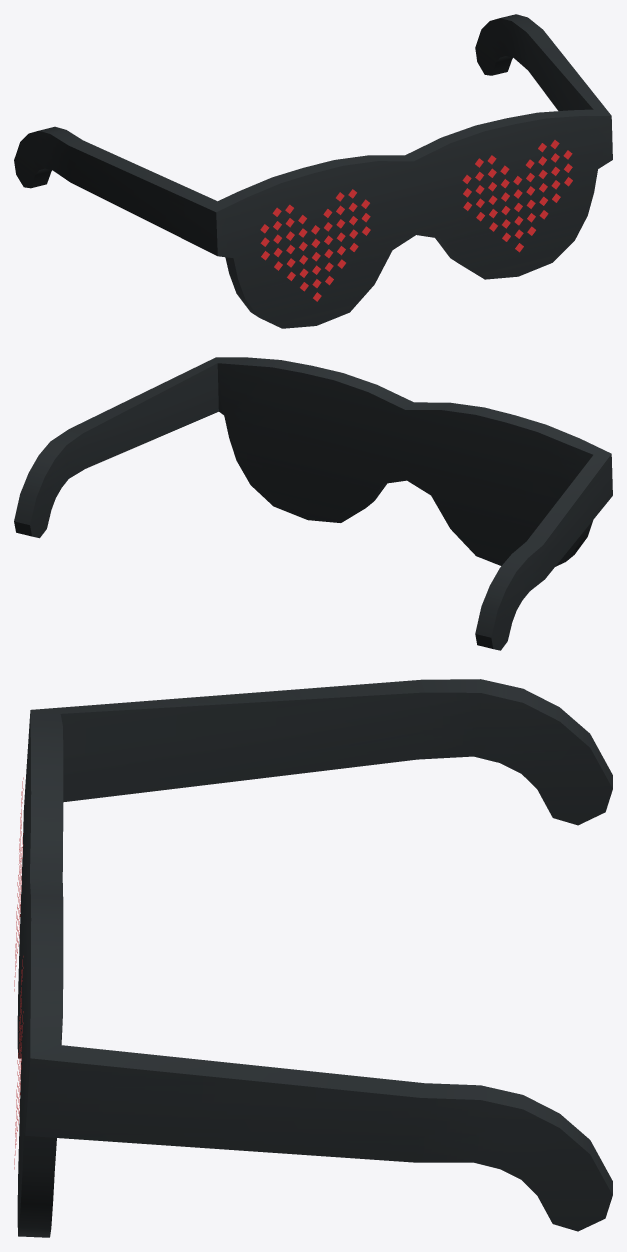
File: Glasses_09.glb
3 renders of one model, top to bottom at view 1: azimuth 30°, elevation 25°; view 2: azimuth 150°, elevation 25°; view 3: azimuth 270°, elevation 25°, orthographic. The views are drawn at different scales.
Visible parts, largest first — view 1: Glasses_09; view 2: Glasses_09; view 3: Glasses_09.
Boxes of the visible parts, <box> form: Glasses_09: <box>14,14,612,328</box>; Glasses_09: <box>14,357,612,650</box>; Glasses_09: <box>14,679,612,1237</box>.
Size of the model in its own units: 0.6062 by 0.1829 by 0.3646.
2 materials, 2 textured.
